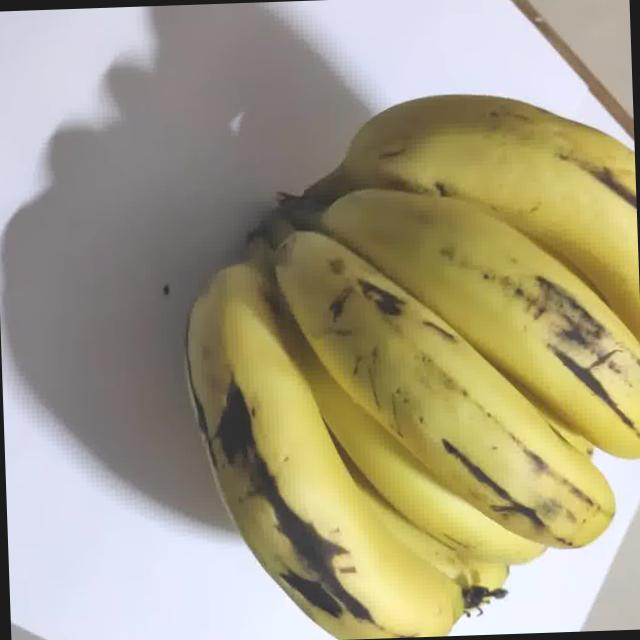apple: (83, 25, 640, 640)
